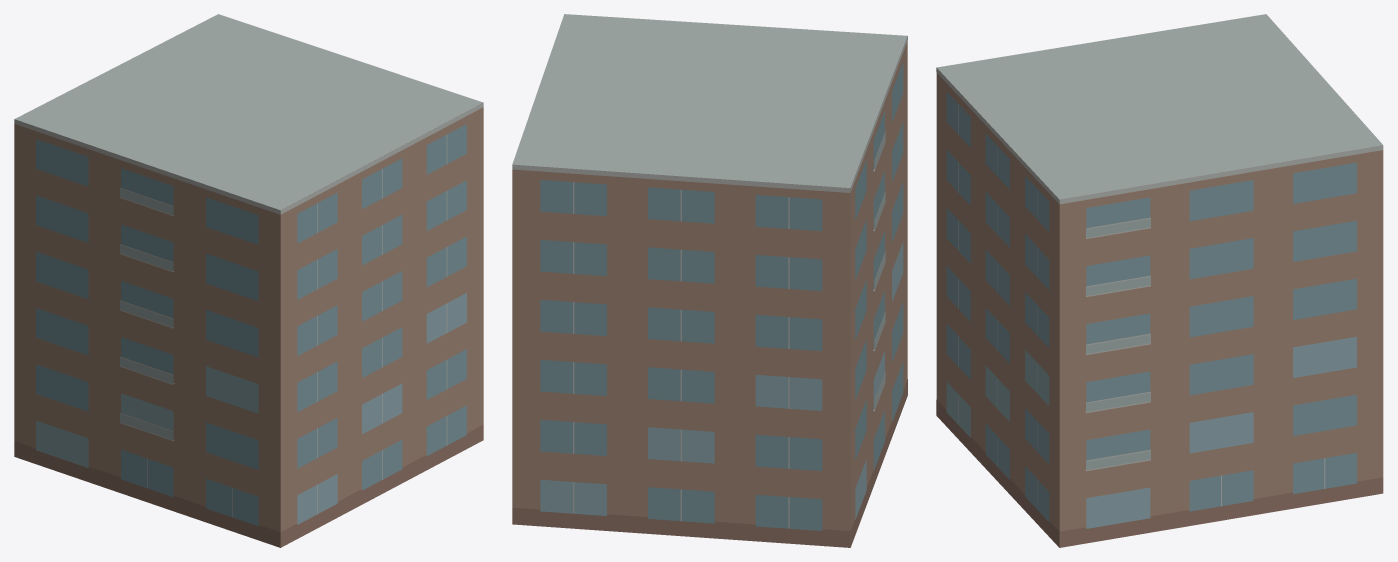
The model's file is survey-upis-32867563.glb.
The picture shows the model from 3 angles, left to right: view 1: azimuth 30°, elevation 25°; view 2: azimuth 150°, elevation 25°; view 3: azimuth 270°, elevation 25°; orthographic projection. The views are drawn at different scales.
Parts seen in each view (by area): view 1: survey-upis-32867563.tmp; view 2: survey-upis-32867563.tmp; view 3: survey-upis-32867563.tmp.
Boxes of the visible parts, <box> form: survey-upis-32867563.tmp: <box>14,14,483,547</box>; survey-upis-32867563.tmp: <box>512,14,907,547</box>; survey-upis-32867563.tmp: <box>936,14,1383,547</box>.
Bounding box in the file's own units: 20.59 × 18 × 20.95.
